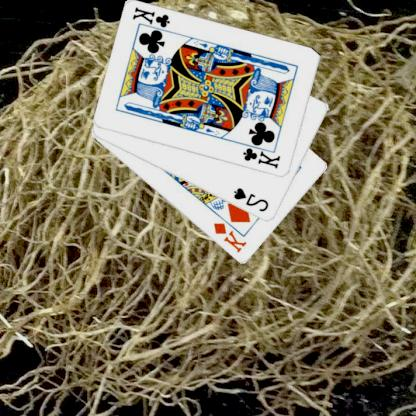2S: (232, 185, 272, 213)
KC: (132, 5, 175, 35), (241, 140, 283, 170)
KD: (212, 220, 250, 254)
